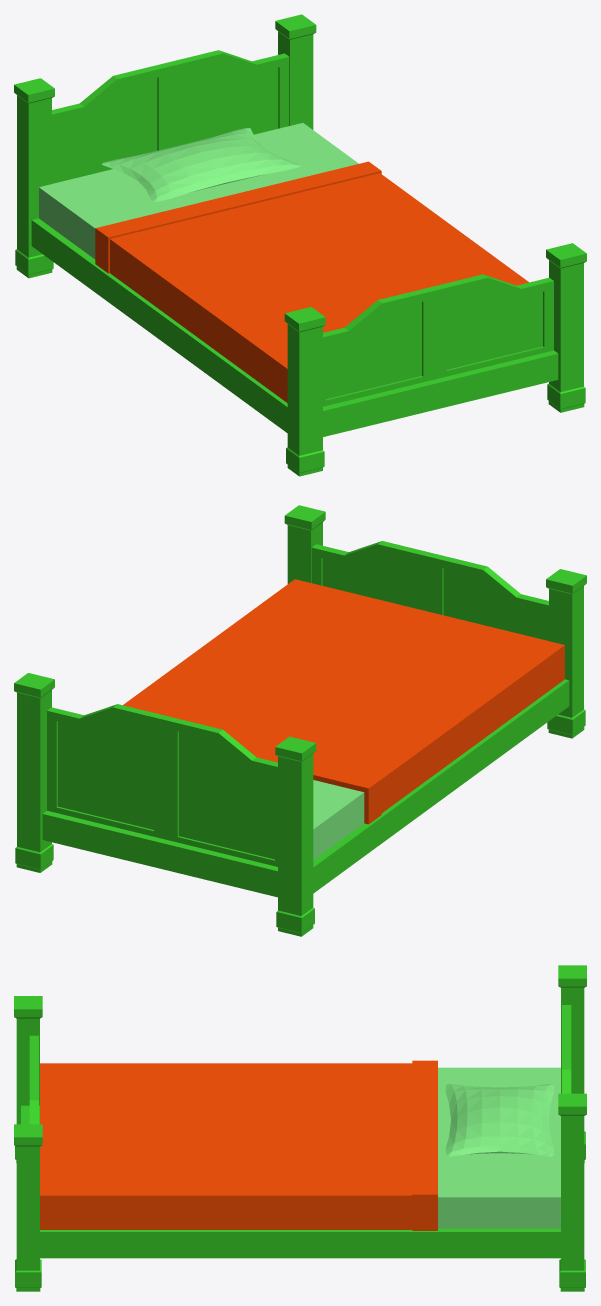
File: Bed_08.fbx
3 renders of one model, top to bottom at view 1: azimuth 30°, elevation 25°; view 2: azimuth 150°, elevation 25°; view 3: azimuth 270°, elevation 25°, orthographic.
Visible parts, largest first — view 1: Bed_08; view 2: Bed_08; view 3: Bed_08.
Boxes of the visible parts, <box> form: Bed_08: <box>14,14,586,476</box>; Bed_08: <box>14,505,586,936</box>; Bed_08: <box>14,965,586,1291</box>.
Size of the model in its own units: 121 by 73.89 by 207.
